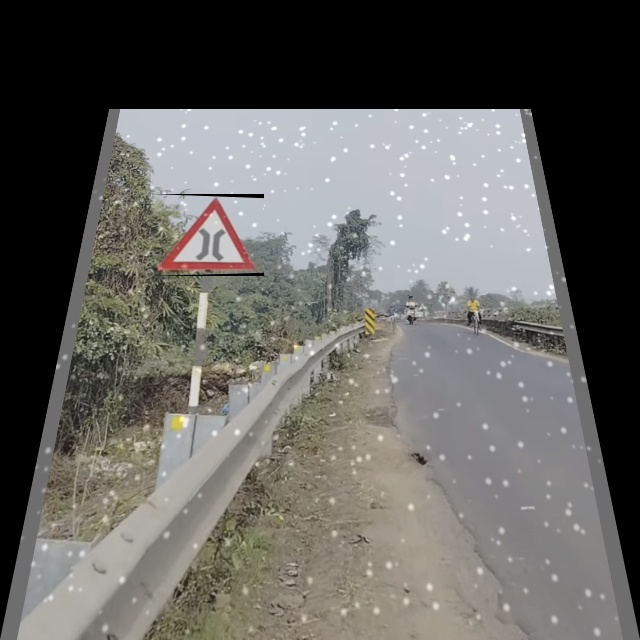Narrow_Bridge: (151, 194, 264, 276)
